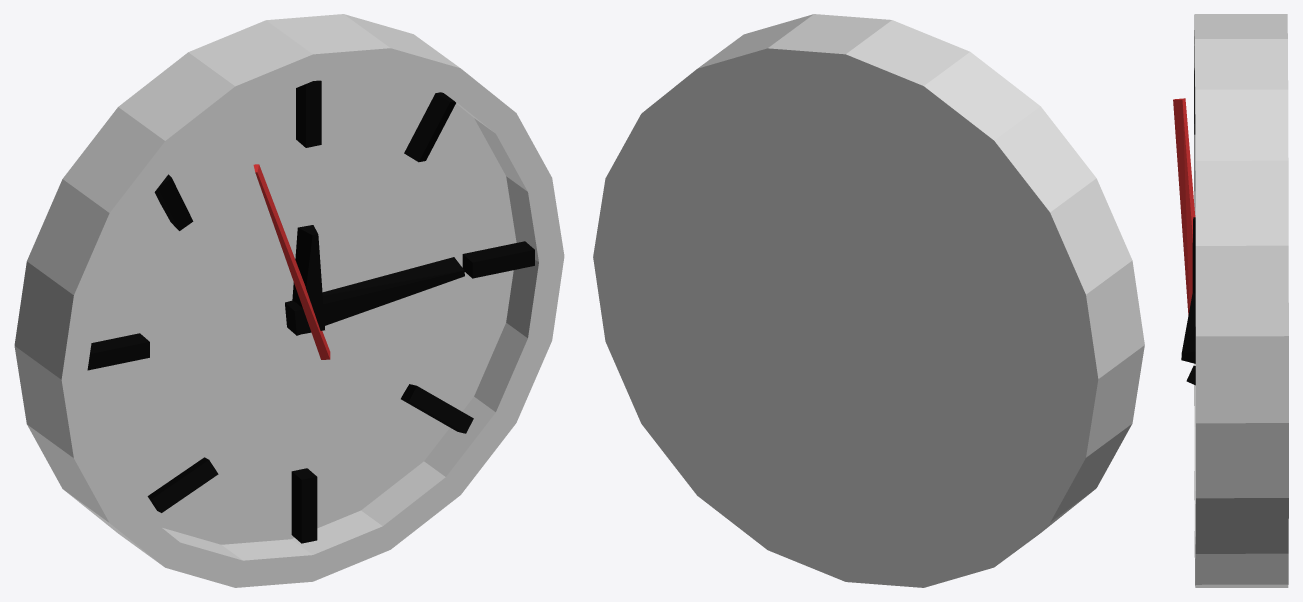
The model's file is clock.fbx.
3 renders of one model, left to right at view 1: azimuth 30°, elevation 25°; view 2: azimuth 150°, elevation 25°; view 3: azimuth 270°, elevation 25°, orthographic.
Visible parts, largest first — view 1: pasted__polySurface2, polySurface4; view 2: pasted__polySurface2; view 3: pasted__polySurface2.
Part boxes in pixels (box(x1,y1,x2,y2)): pasted__polySurface2: box(14, 14, 564, 587); polySurface4: box(291, 468, 317, 543); pasted__polySurface2: box(593, 14, 1144, 587); pasted__polySurface2: box(1173, 14, 1288, 587).
Bounding box in the file's own units: 2 × 2 × 0.4008.
